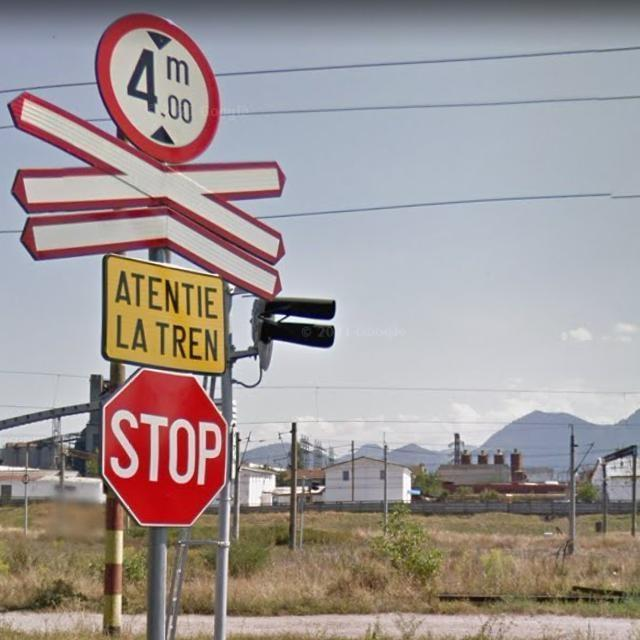prio_stop: (98, 367, 226, 526)
